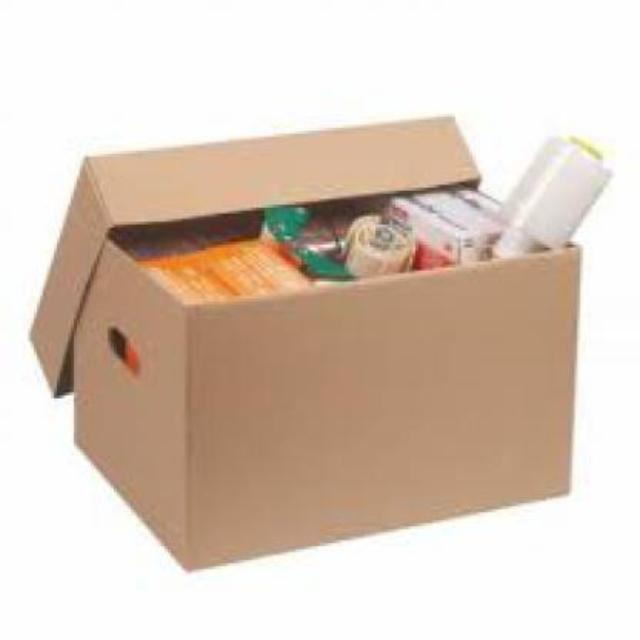cardboard_box: (30, 109, 608, 595)
